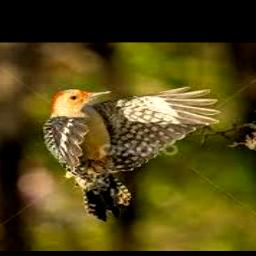Woodpecker: (42, 86, 220, 221)
